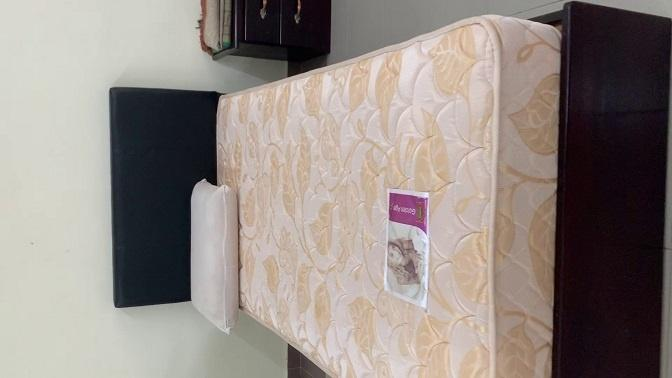bed: (84, 24, 672, 378)
table: (213, 0, 351, 56)
